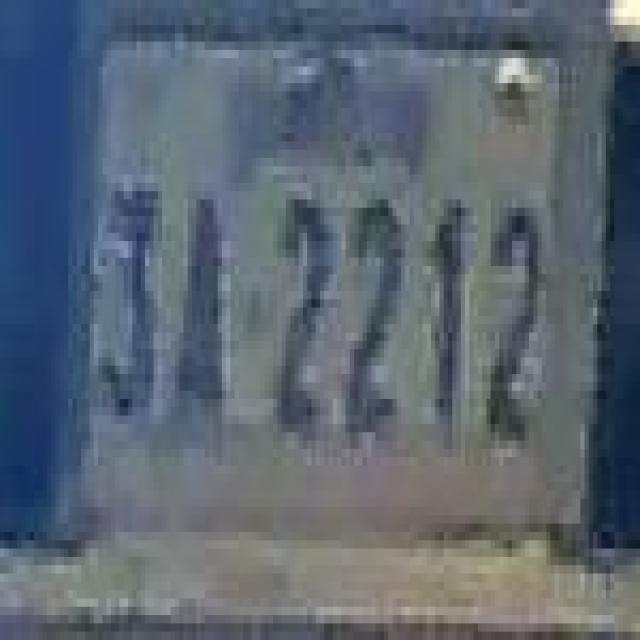Preah_Sihanouk: (226, 50, 435, 204)
